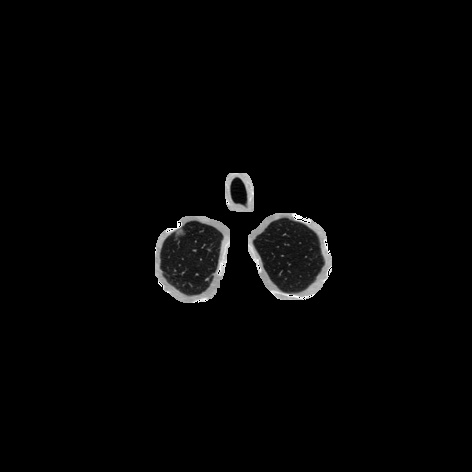PN: (175, 230, 183, 238)
